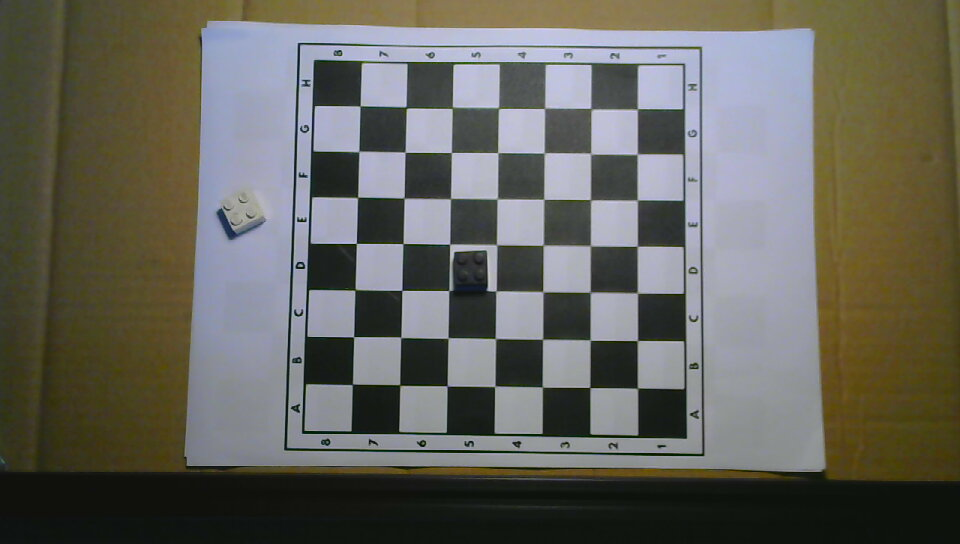bp: (454, 251, 489, 289)
wp: (218, 187, 267, 236)
